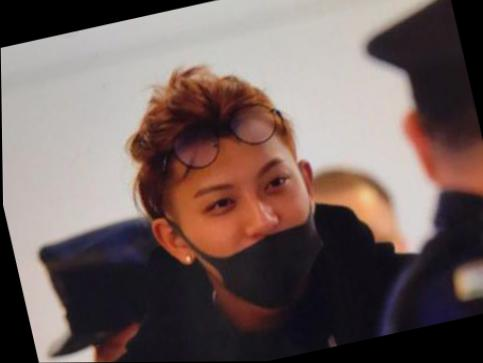WRONG: (174, 137, 332, 324)
